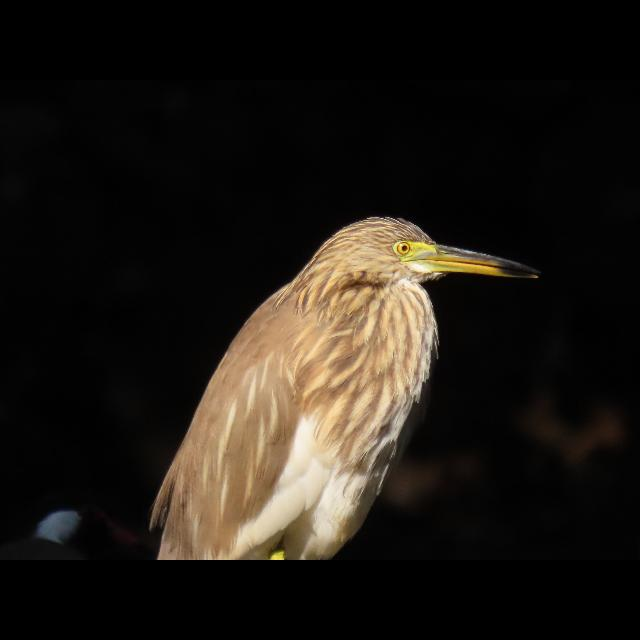heron: (170, 216, 546, 560)
